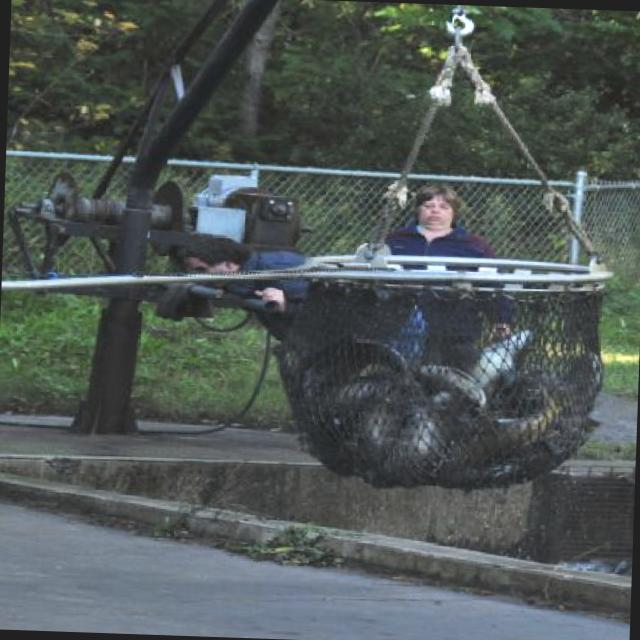Person: (169, 232, 429, 372), (375, 180, 503, 362)
